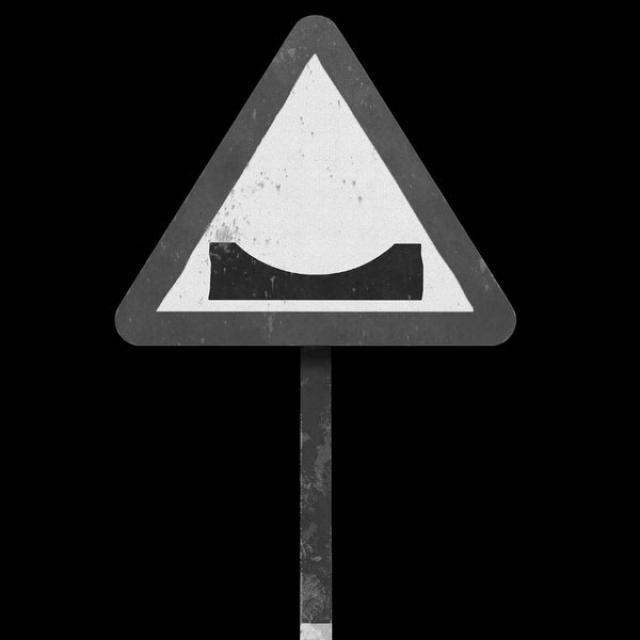dangerous dip: (115, 16, 515, 348)
